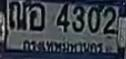0: (88, 6, 102, 32)
2: (103, 6, 116, 34)
3: (71, 5, 84, 31)
4: (56, 2, 68, 32)
A19: (8, 0, 27, 29)
A43: (28, 2, 44, 30)
BKK: (19, 36, 104, 55)
